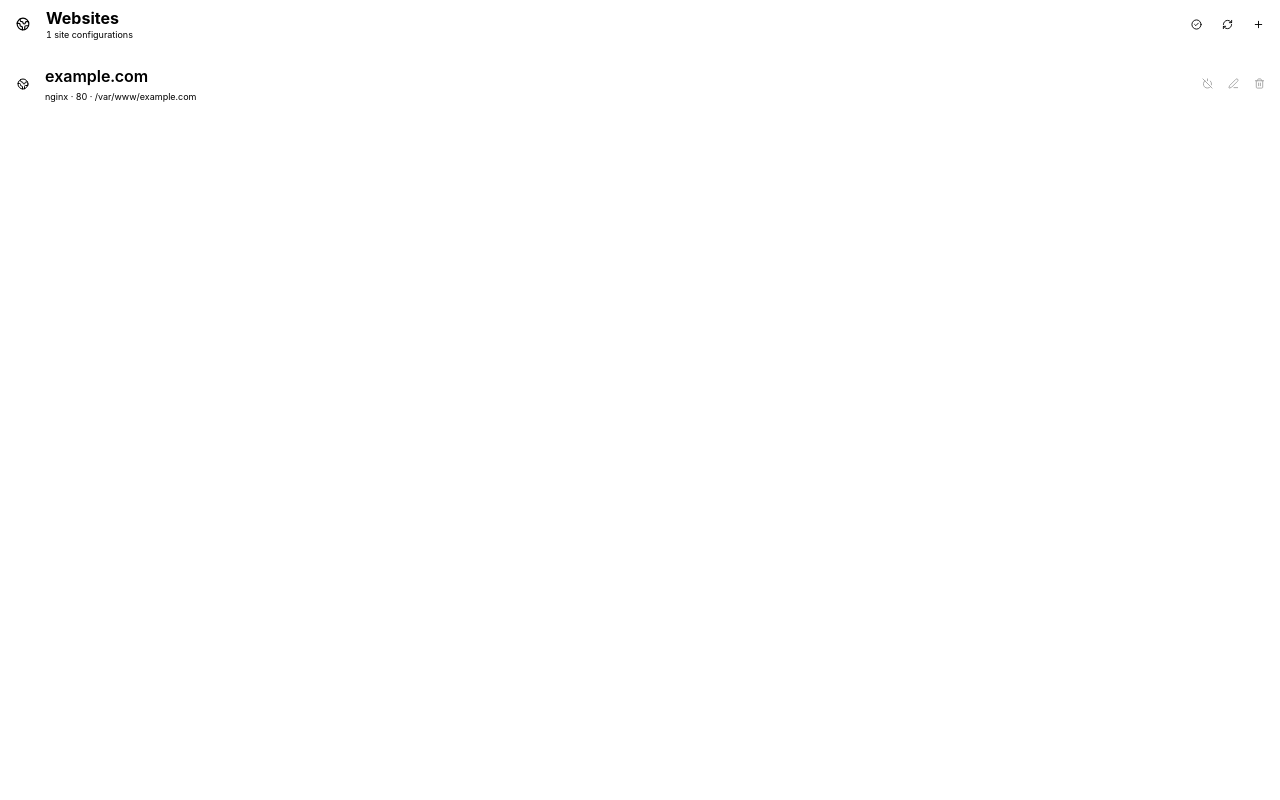
WebsitePanel discard prompt › asks before closing the editor and drops the draft only when told to
Click the button titled "Edit site": (1233, 84) [1221, 72, 1245, 96]
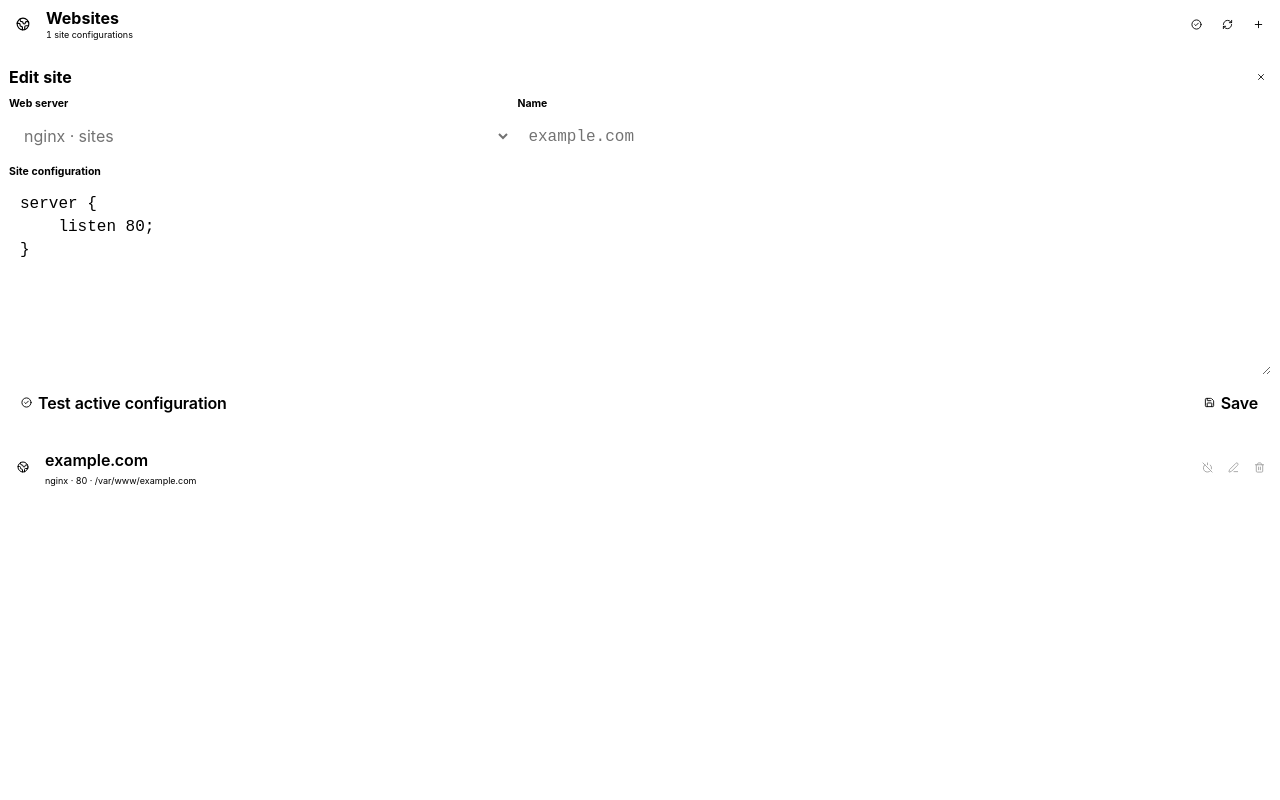
Replace the text in the text box with class "site-config-input" with "changed": (640, 280) [9, 184, 1271, 374]
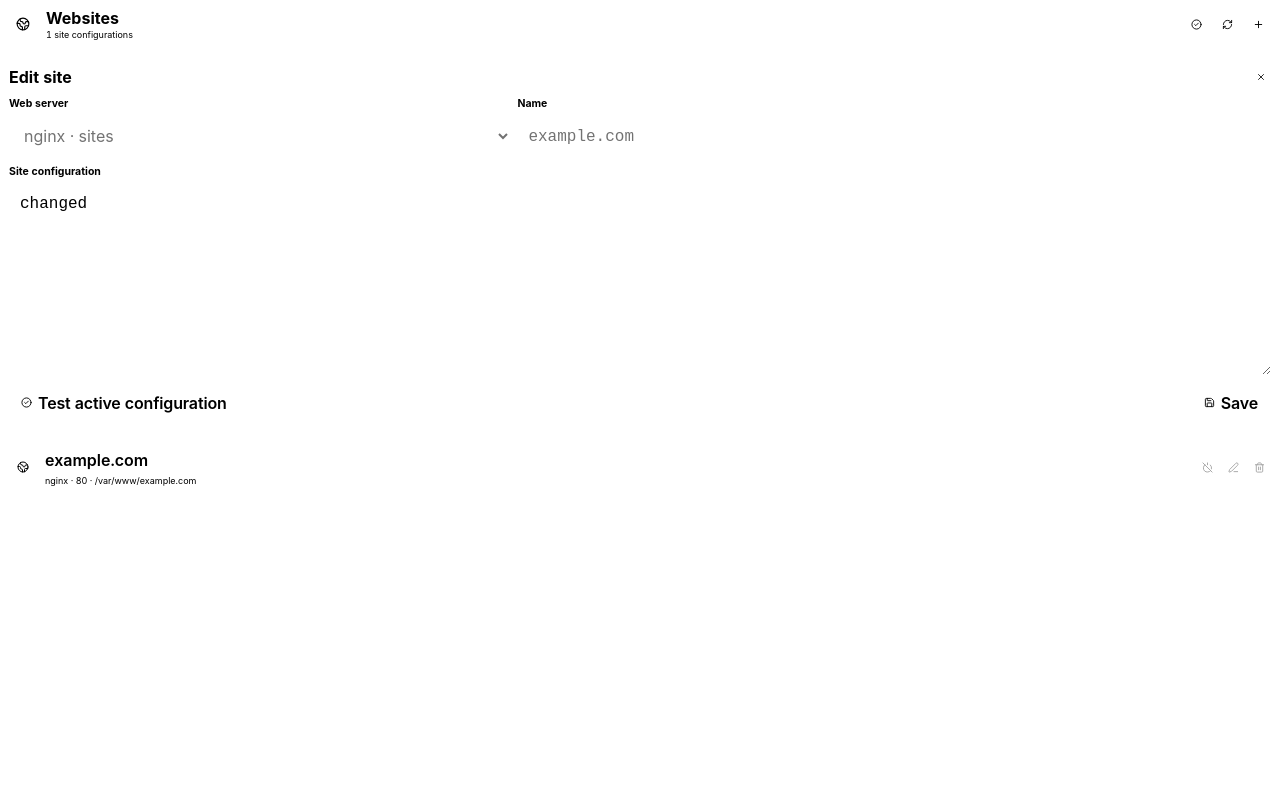
Click the button titled "Close": (1261, 77) [1251, 67, 1271, 87]
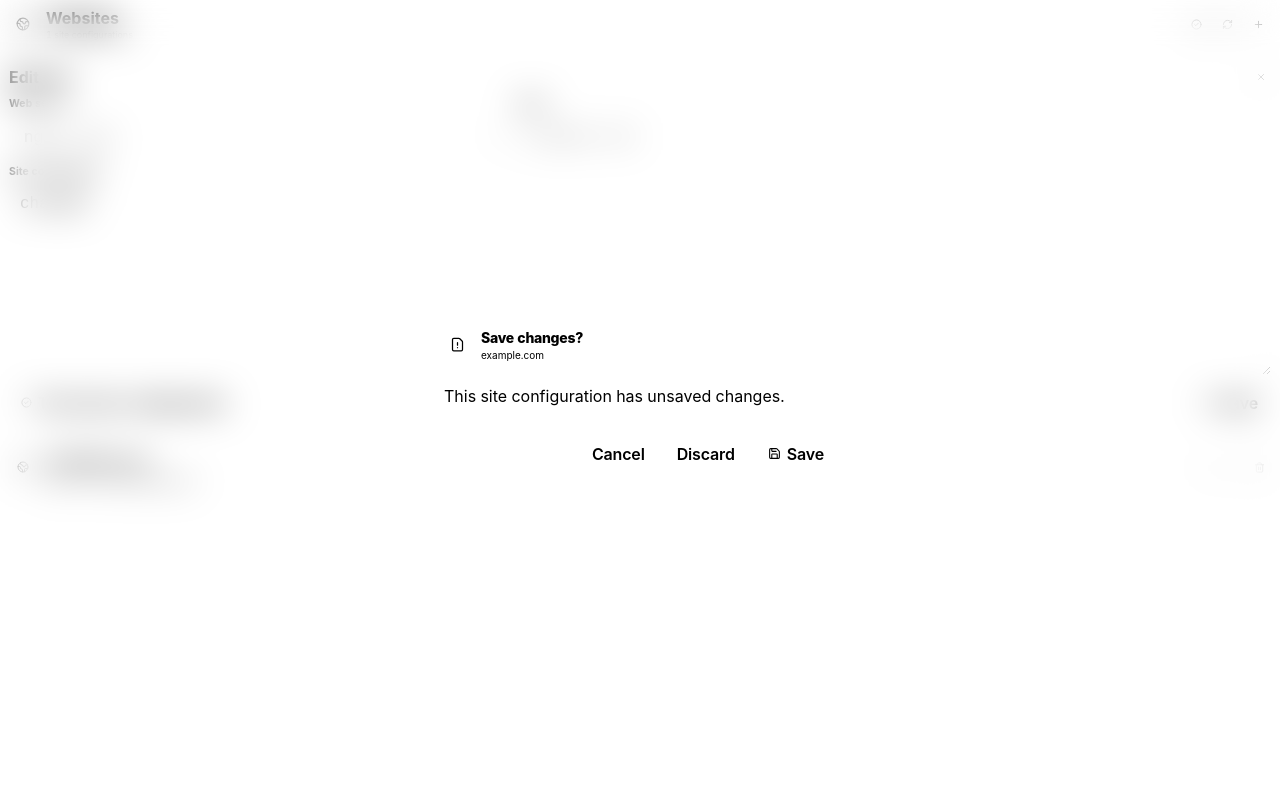
Click the button "Discard": (706, 454) [665, 434, 747, 472]
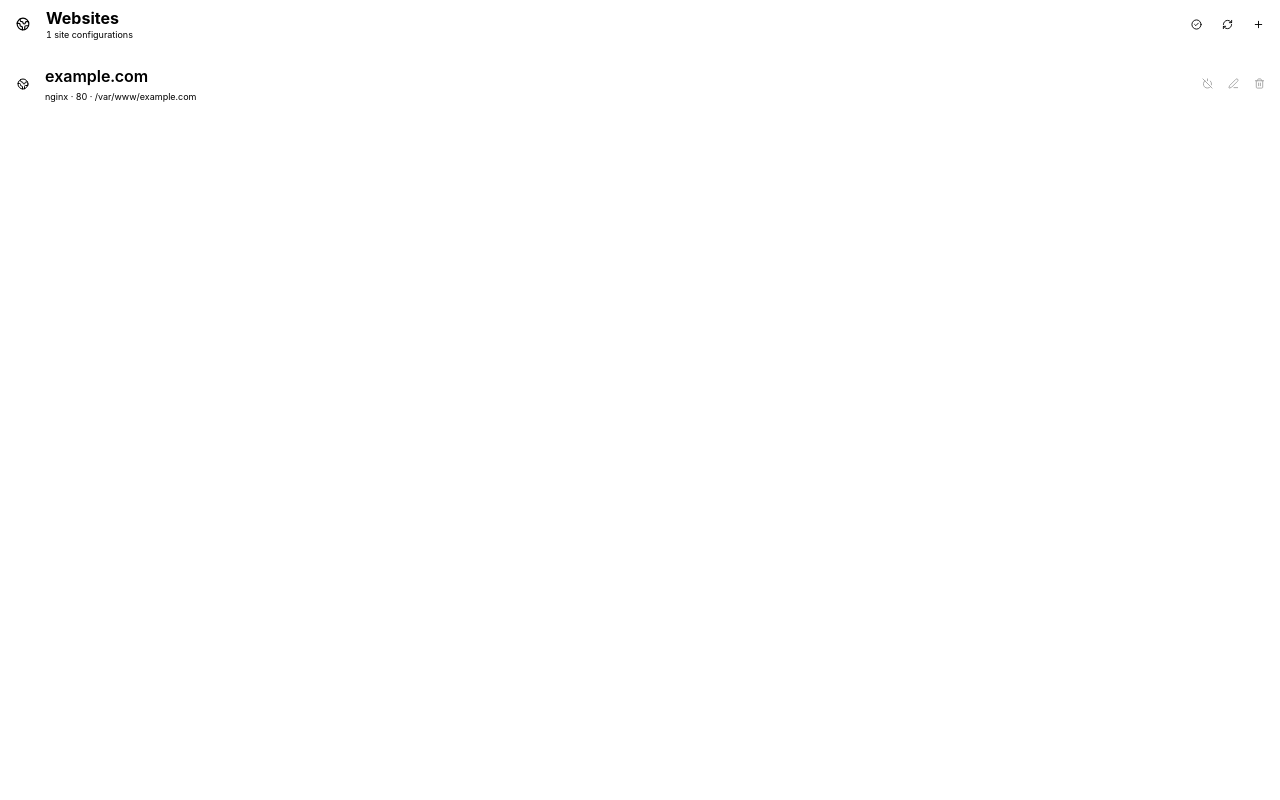
Check: the text box with class "site-config-input" is gone
